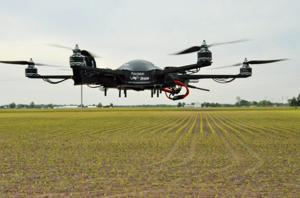UAV: (24, 41, 254, 103)
